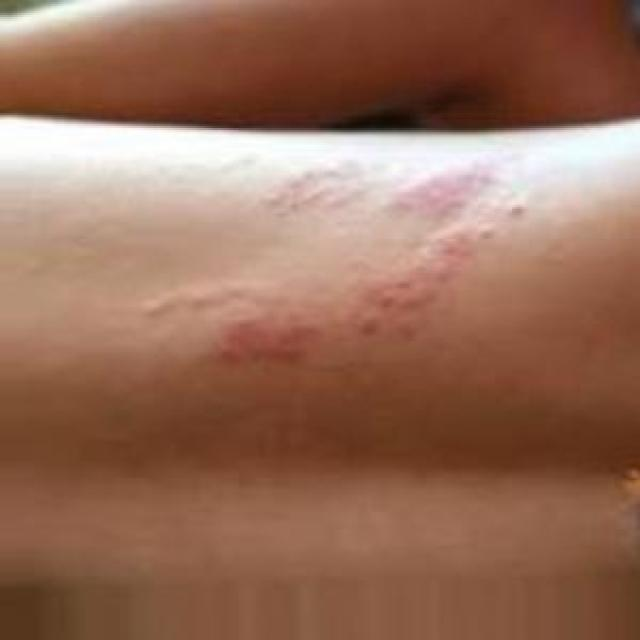Shingles: (130, 163, 501, 370)
